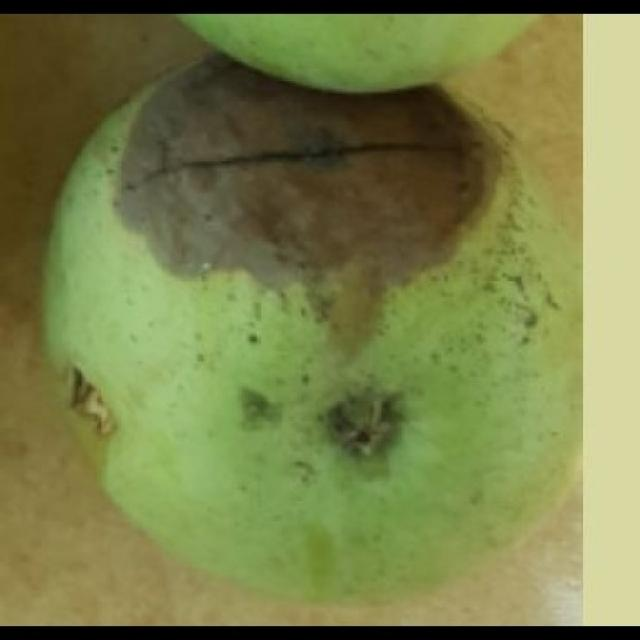Rotten Apple: (34, 49, 581, 605)
